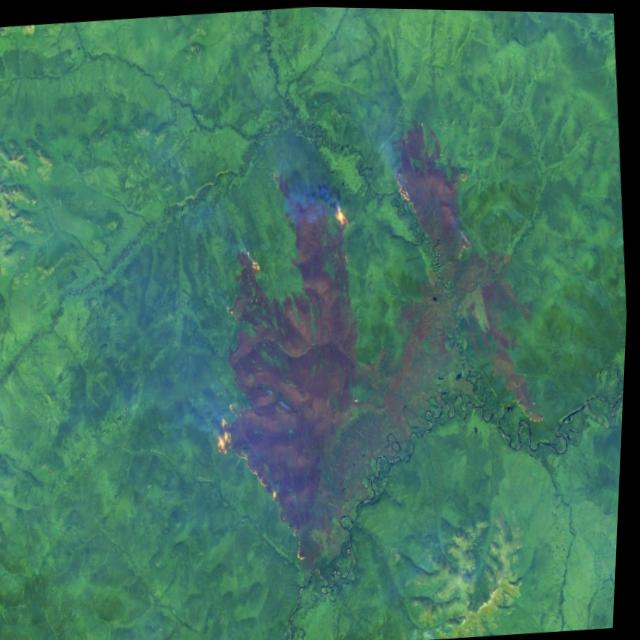fire: (202, 389, 326, 577), (382, 156, 481, 273), (234, 245, 273, 294), (324, 194, 361, 240)
